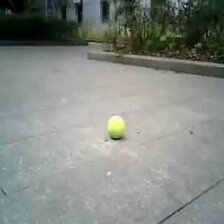tennis: (107, 115, 123, 138)
